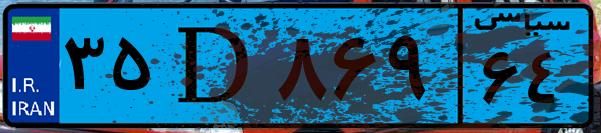3: (57, 26, 110, 100)
4: (525, 38, 570, 115)
5: (110, 28, 158, 98)
6: (330, 28, 385, 110), (475, 38, 525, 113)
8: (270, 28, 330, 110)
9: (385, 28, 445, 110)
D: (158, 12, 270, 120)
